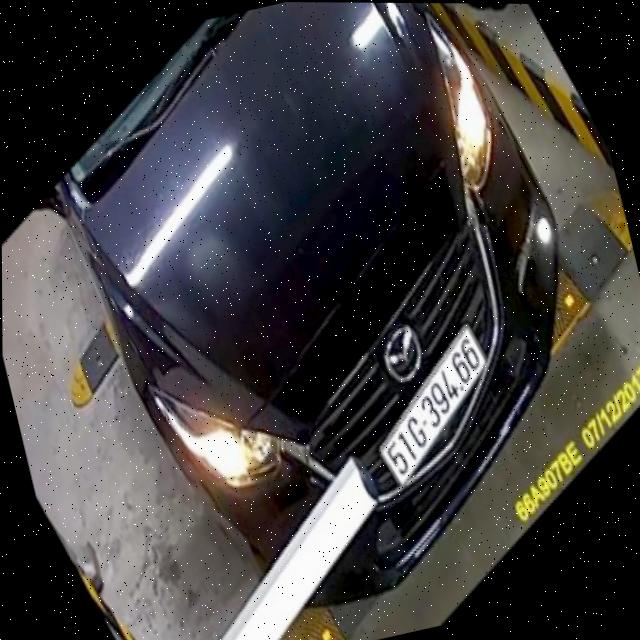car: (23, 2, 566, 615)
plate: (370, 320, 494, 494)
